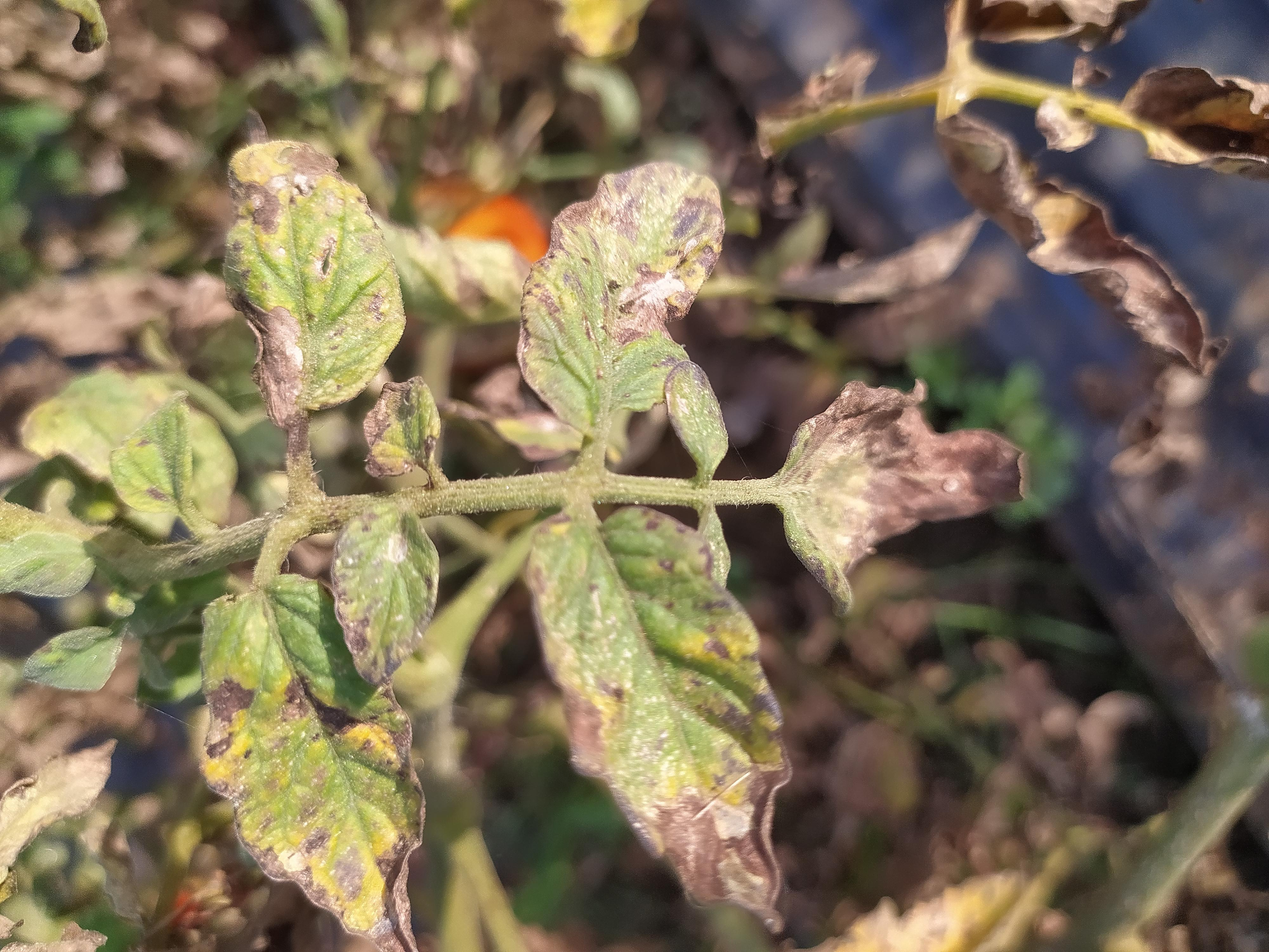Early Blight: (23, 390, 601, 595), (0, 141, 511, 328), (700, 163, 1112, 314), (455, 581, 772, 774), (685, 386, 1060, 547)
